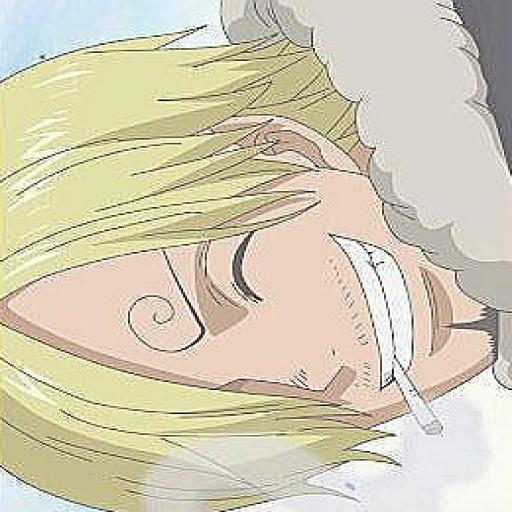sanji: (0, 0, 506, 507)
